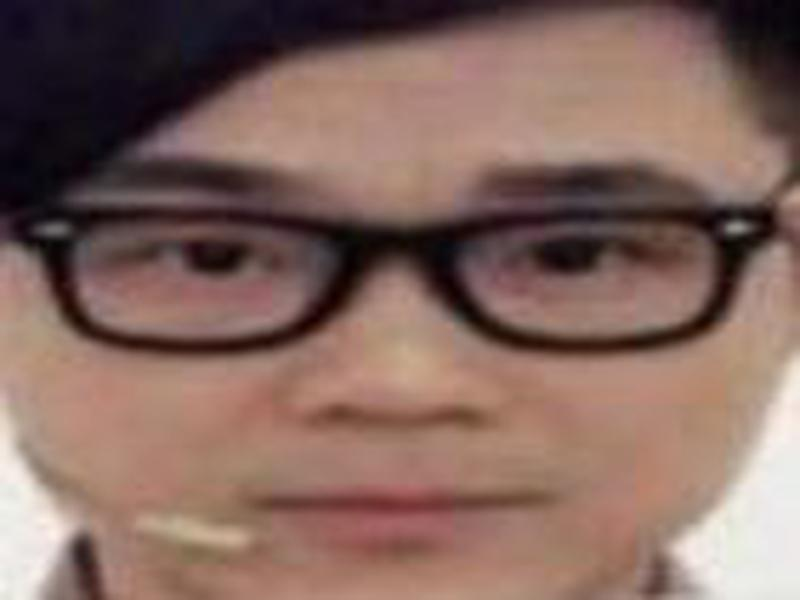without_mask: (4, 53, 797, 591)
